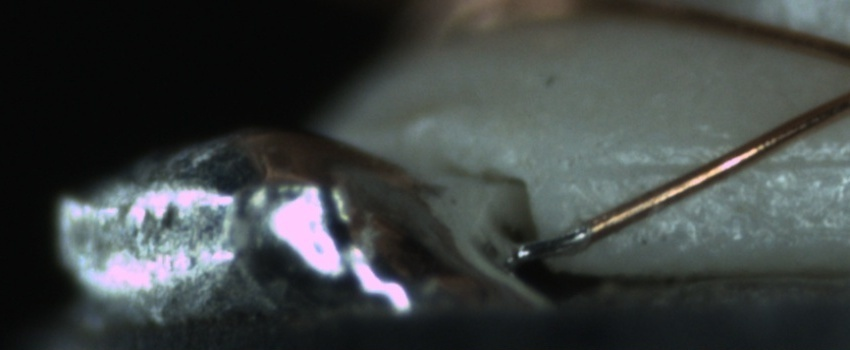DL: (604, 131, 847, 198)
TS: (509, 221, 592, 265)
TTCW: (507, 206, 625, 264)
